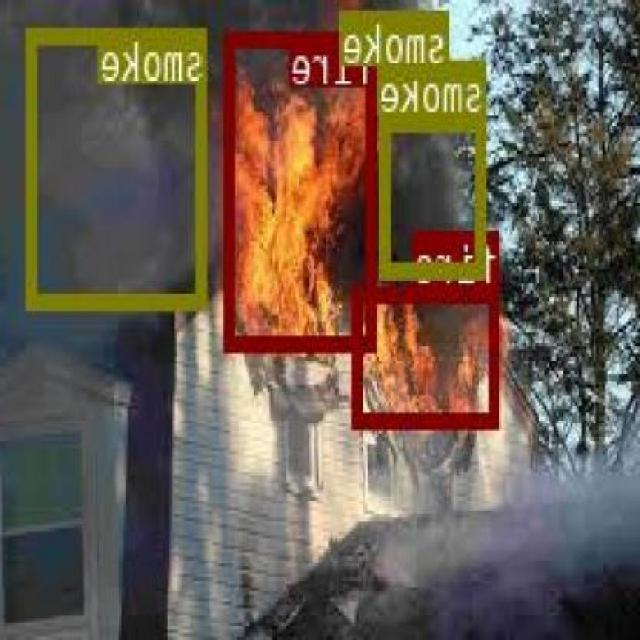Fire: (227, 28, 378, 346), (354, 285, 502, 424)
Smoke: (29, 25, 208, 306), (382, 112, 487, 276), (382, 10, 452, 76)
